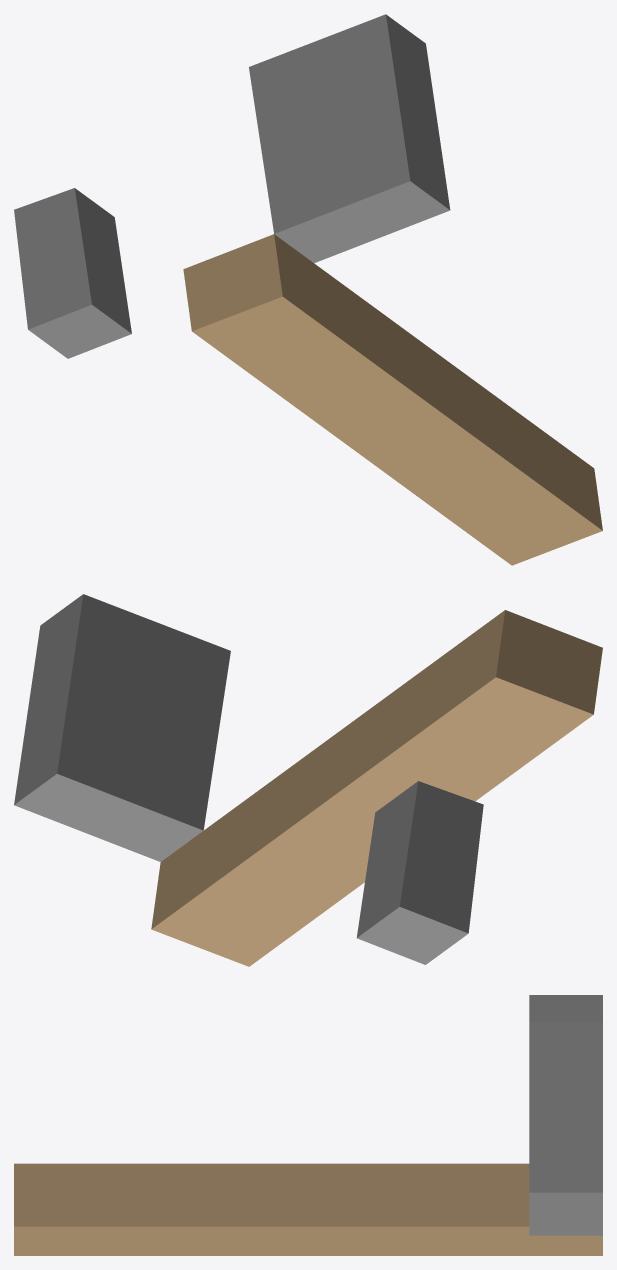
3 views of the same model, one above another, from view 1: azimuth 30°, elevation 25°; view 2: azimuth 150°, elevation 25°; view 3: azimuth 270°, elevation 25° (orthographic). The views are drawn at different scales.
Parts seen in each view (by area): view 1: 0_1_3_2_1_1_1_3_3_1; view 2: 0_1_3_2_1_1_1_3_3_1; view 3: 0_1_3_2_1_1_1_3_3_1.
Boxes of the visible parts, left/top/right/bottom form: 0_1_3_2_1_1_1_3_3_1: left=14, top=14, right=602, bottom=565; 0_1_3_2_1_1_1_3_3_1: left=14, top=594, right=602, bottom=966; 0_1_3_2_1_1_1_3_3_1: left=14, top=995, right=602, bottom=1255.
Bounding box in the file's own units: 17.15 × 11.16 × 24.
